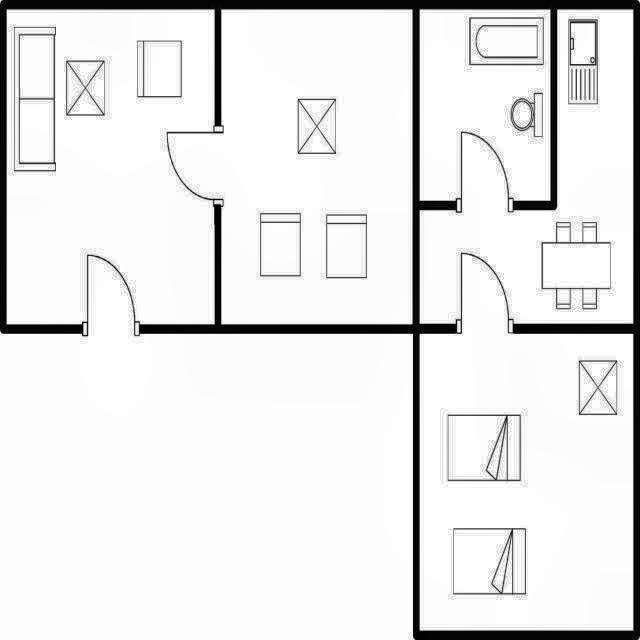room: (420, 9, 633, 324), (6, 9, 215, 324), (420, 334, 633, 631), (221, 9, 413, 324), (420, 9, 550, 201)
